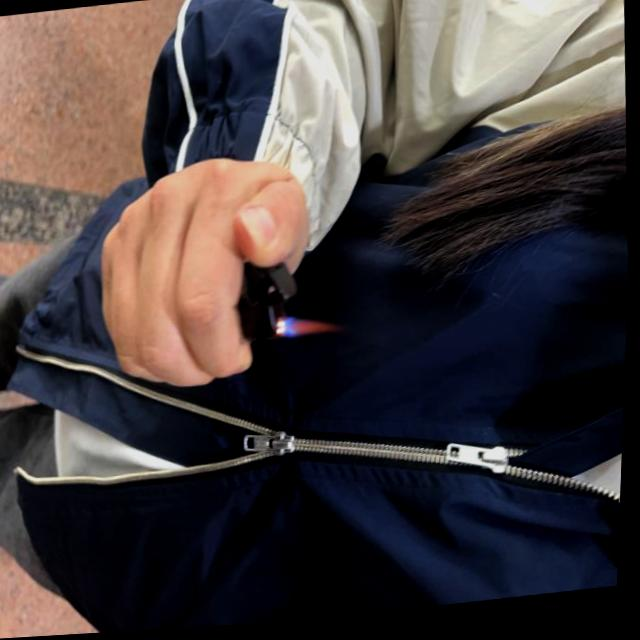Fire: (285, 318, 344, 346)
